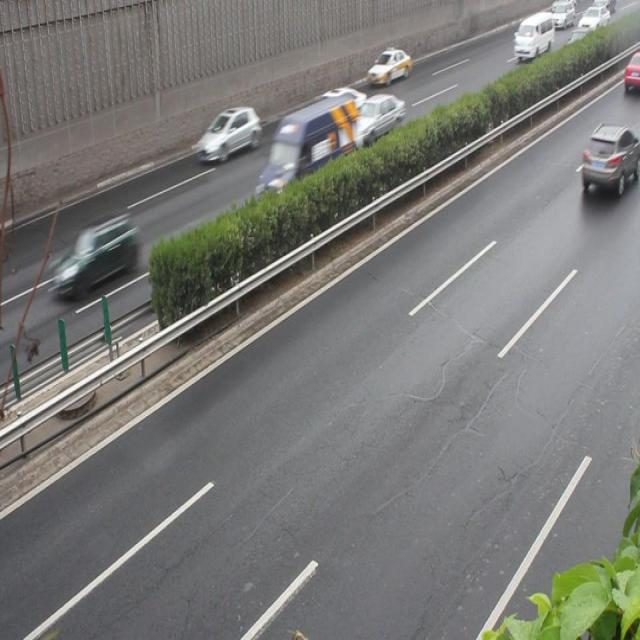car: (53, 215, 138, 295), (578, 123, 640, 192), (194, 105, 259, 160), (347, 94, 401, 142)
